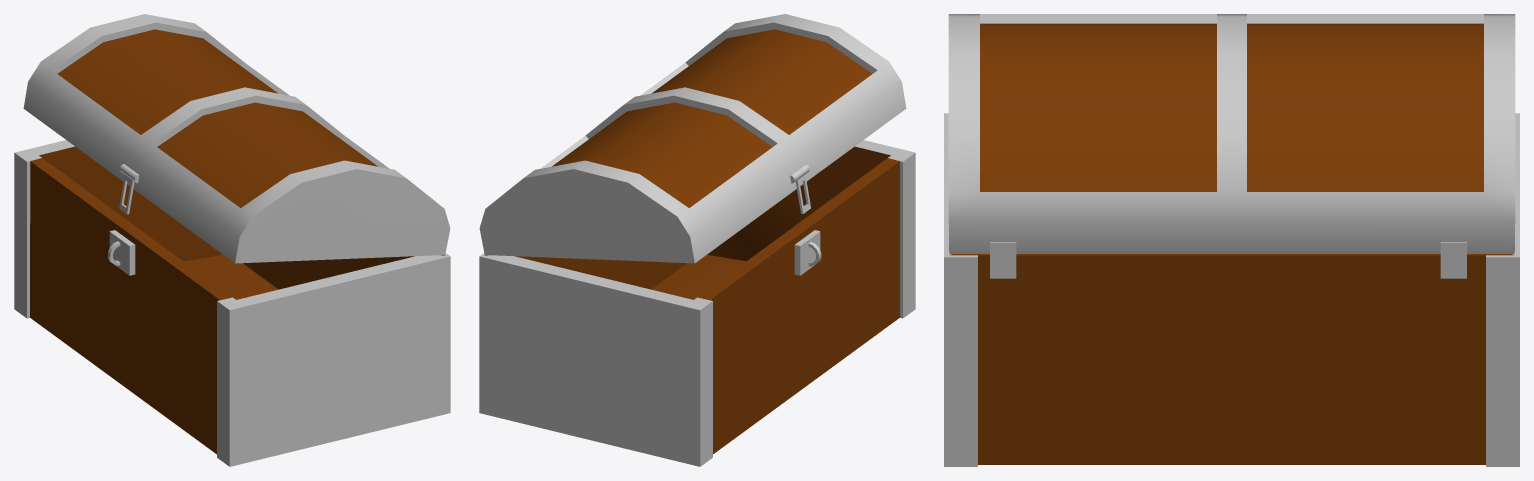
Rendered from Chest.fbx.
3 views of the same model, side by side, from view 1: azimuth 30°, elevation 25°; view 2: azimuth 150°, elevation 25°; view 3: azimuth 270°, elevation 25° (orthographic). The views are drawn at different scales.
Parts seen in each view (by area): view 1: Chest; view 2: Chest; view 3: Chest.
Boxes of the visible parts, box(x1,y1,x2,y2) form: Chest: box(14, 14, 450, 466); Chest: box(479, 14, 915, 466); Chest: box(944, 14, 1519, 466).
Bounding box in the file's own units: 74.88 × 80.77 × 119.
